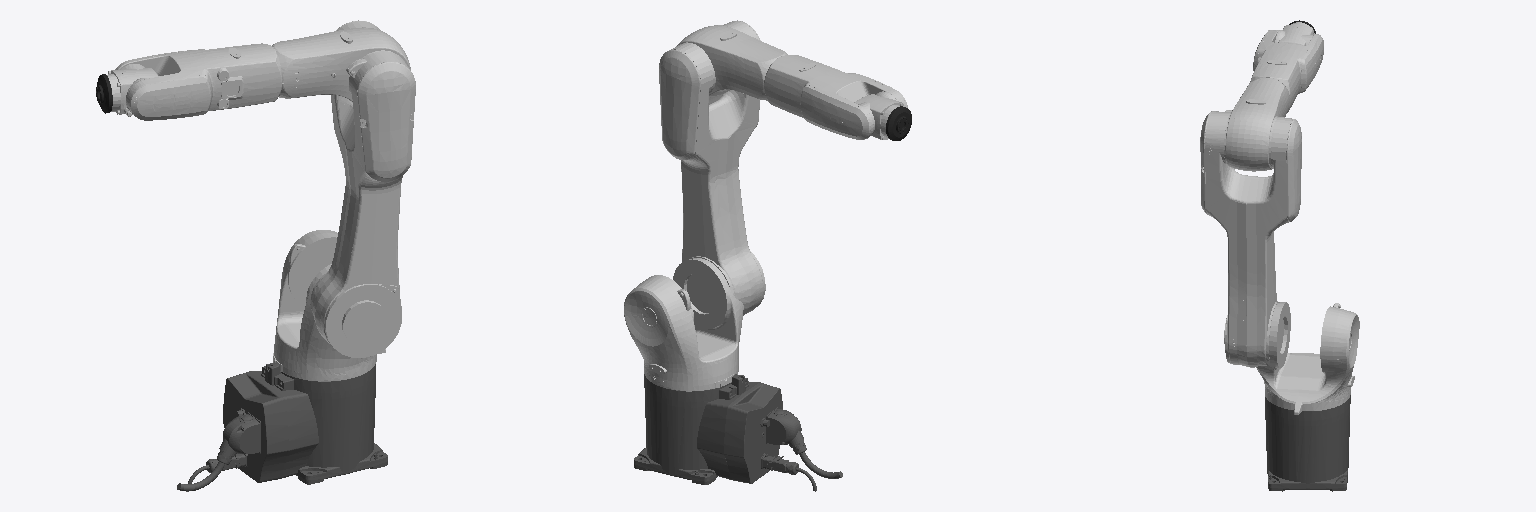
URDF robot description (kr_10_r1100-2):
<?xml version="1.0" encoding="utf-8"?>
<!-- This URDF was automatically created by SolidWorks to URDF Exporter! Originally created by [author] ([email redacted]) 
     Commit Version: 1.6.0-1-g15f4949  Build Version: 1.6.7594.29634
     For more information, please see http://wiki.ros.org/sw_urdf_exporter -->
<robot
  name="kr_10_r1100-2">
  <link
    name="base_arm">
    <inertial>
      <origin
        xyz="-0.046785 -0.00098204 0.10974"
        rpy="0 0 0" />
      <mass
        value="91.64" />
      <inertia
        ixx="0.60334"
        ixy="-0.00040839"
        ixz="-0.0038944"
        iyy="0.68726"
        iyz="0.00020595"
        izz="0.5917" />
    </inertial>
    <visual>
      <origin
        xyz="0 0 0"
        rpy="0 0 0" />
      <geometry>
        <mesh
          filename="package://kr_10_r1100-2/meshes/base_arm.STL" />
      </geometry>
      <material
        name="">
        <color
          rgba="0.4 0.4 0.4 1" />
      </material>
    </visual>
    <collision>
      <origin
        xyz="0 0 0"
        rpy="0 0 0" />
      <geometry>
        <mesh
          filename="package://kr_10_r1100-2/meshes/base_arm.STL" />
      </geometry>
    </collision>
  </link>
  <link
    name="link_1">
    <inertial>
      <origin
        xyz="0.0080148 -0.0054241 0.11231"
        rpy="0 0 0" />
      <mass
        value="45.516" />
      <inertia
        ixx="0.52733"
        ixy="-0.034725"
        ixz="-0.03364"
        iyy="0.35598"
        iyz="0.020992"
        izz="0.40114" />
    </inertial>
    <visual>
      <origin
        xyz="0 0 0"
        rpy="0 0 0" />
      <geometry>
        <mesh
          filename="package://kr_10_r1100-2/meshes/link_1.STL" />
      </geometry>
      <material
        name="">
        <color
          rgba="0.8 0.8 0.8 1" />
      </material>
    </visual>
    <collision>
      <origin
        xyz="0 0 0"
        rpy="0 0 0" />
      <geometry>
        <mesh
          filename="package://kr_10_r1100-2/meshes/link_1.STL" />
      </geometry>
    </collision>
  </link>
  <joint
    name="joint_a1"
    type="revolute">
    <origin
      xyz="-0.00061909 0 0.2157"
      rpy="0 0 0" />
    <parent
      link="base_arm" />
    <child
      link="link_1" />
    <axis
      xyz="0 0 -1" />
    <limit
      lower="0"
      upper="0"
      effort="0"
      velocity="0" />
  </joint>
  <link
    name="link_2">
    <inertial>
      <origin
        xyz="0.26612 -0.02538 0.068776"
        rpy="0 0 0" />
      <mass
        value="84.384" />
      <inertia
        ixx="0.443"
        ixy="0.22357"
        ixz="-0.027695"
        iyy="3.8805"
        iyz="0.00077028"
        izz="3.6823" />
    </inertial>
    <visual>
      <origin
        xyz="0 0 0"
        rpy="0 0 0" />
      <geometry>
        <mesh
          filename="package://kr_10_r1100-2/meshes/link_2.STL" />
      </geometry>
      <material
        name="">
        <color
          rgba="0.8 0.8 0.8 1" />
      </material>
    </visual>
    <collision>
      <origin
        xyz="0 0 0"
        rpy="0 0 0" />
      <geometry>
        <mesh
          filename="package://kr_10_r1100-2/meshes/link_2.STL" />
      </geometry>
    </collision>
  </link>
  <joint
    name="joint_a2"
    type="revolute">
    <origin
      xyz="0.011395 -0.071615 0.1803"
      rpy="1.3545 -1.5708 0" />
    <parent
      link="link_1" />
    <child
      link="link_2" />
    <axis
      xyz="0 0 1" />
    <limit
      lower="0"
      upper="0"
      effort="0"
      velocity="0" />
  </joint>
  <link
    name="link_3">
    <inertial>
      <origin
        xyz="0.011131 0.052479 0.072757"
        rpy="0 0 0" />
      <mass
        value="31.013" />
      <inertia
        ixx="0.21568"
        ixy="-0.02434"
        ixz="-0.00045379"
        iyy="0.080696"
        iyz="-0.0033315"
        izz="0.22357" />
    </inertial>
    <visual>
      <origin
        xyz="0 0 0"
        rpy="0 0 0" />
      <geometry>
        <mesh
          filename="package://kr_10_r1100-2/meshes/link_3.STL" />
      </geometry>
      <material
        name="">
        <color
          rgba="0.8 0.8 0.8 1" />
      </material>
    </visual>
    <collision>
      <origin
        xyz="0 0 0"
        rpy="0 0 0" />
      <geometry>
        <mesh
          filename="package://kr_10_r1100-2/meshes/link_3.STL" />
      </geometry>
    </collision>
  </link>
  <joint
    name="joint_a3"
    type="revolute">
    <origin
      xyz="0.55896 -0.034133 -0.008"
      rpy="0 0 0" />
    <parent
      link="link_2" />
    <child
      link="link_3" />
    <axis
      xyz="0 0 1" />
    <limit
      lower="0"
      upper="0"
      effort="0"
      velocity="0" />
  </joint>
  <link
    name="link_4">
    <inertial>
      <origin
        xyz="-5.4213E-05 -0.0016695 0.15386"
        rpy="0 0 0" />
      <mass
        value="27.356" />
      <inertia
        ixx="0.24636"
        ixy="6.8921E-05"
        ixz="0.00023212"
        iyy="0.22365"
        iyz="0.0075463"
        izz="0.066562" />
    </inertial>
    <visual>
      <origin
        xyz="0 0 0"
        rpy="0 0 0" />
      <geometry>
        <mesh
          filename="package://kr_10_r1100-2/meshes/link_4.STL" />
      </geometry>
      <material
        name="">
        <color
          rgba="0.8 0.8 0.8 1" />
      </material>
    </visual>
    <collision>
      <origin
        xyz="0 0 0"
        rpy="0 0 0" />
      <geometry>
        <mesh
          filename="package://kr_10_r1100-2/meshes/link_4.STL" />
      </geometry>
    </collision>
  </link>
  <joint
    name="joint_a4"
    type="revolute">
    <origin
      xyz="0.025 0.205 0.0755"
      rpy="-1.5708 0 0" />
    <parent
      link="link_3" />
    <child
      link="link_4" />
    <axis
      xyz="0 0 1" />
    <limit
      lower="0"
      upper="0"
      effort="0"
      velocity="0" />
  </joint>
  <link
    name="link_5">
    <inertial>
      <origin
        xyz="0.00037113 -0.053077 0.011452"
        rpy="0 0 0" />
      <mass
        value="5.9558" />
      <inertia
        ixx="0.0097612"
        ixy="5.2407E-06"
        ixz="-4.0674E-05"
        iyy="0.0085564"
        iyz="7.7038E-05"
        izz="0.0066757" />
    </inertial>
    <visual>
      <origin
        xyz="0 0 0"
        rpy="0 0 0" />
      <geometry>
        <mesh
          filename="package://kr_10_r1100-2/meshes/link_5.STL" />
      </geometry>
      <material
        name="">
        <color
          rgba="0.8 0.8 0.8 1" />
      </material>
    </visual>
    <collision>
      <origin
        xyz="0 0 0"
        rpy="0 0 0" />
      <geometry>
        <mesh
          filename="package://kr_10_r1100-2/meshes/link_5.STL" />
      </geometry>
    </collision>
  </link>
  <joint
    name="joint_a5"
    type="revolute">
    <origin
      xyz="-0.0002289 0.0545 0.31"
      rpy="0 0 0" />
    <parent
      link="link_4" />
    <child
      link="link_5" />
    <axis
      xyz="0.0042 -0.99999 0" />
    <limit
      lower="0"
      upper="0"
      effort="0"
      velocity="0" />
  </joint>
  <link
    name="link_6">
    <inertial>
      <origin
        xyz="0.00014555 -0.0022055 -0.010033"
        rpy="0 0 0" />
      <mass
        value="0.59297" />
      <inertia
        ixx="0.00022595"
        ixy="-5.5738E-07"
        ixz="-2.5386E-06"
        iyy="0.00023504"
        iyz="4.1459E-05"
        izz="0.00041455" />
    </inertial>
    <visual>
      <origin
        xyz="0 0 0"
        rpy="0 0 0" />
      <geometry>
        <mesh
          filename="package://kr_10_r1100-2/meshes/link_6.STL" />
      </geometry>
      <material
        name="">
        <color
          rgba="0.2 0.2 0.2 1" />
      </material>
    </visual>
    <collision>
      <origin
        xyz="0 0 0"
        rpy="0 0 0" />
      <geometry>
        <mesh
          filename="package://kr_10_r1100-2/meshes/link_6.STL" />
      </geometry>
    </collision>
  </link>
  <joint
    name="joint_a6"
    type="revolute">
    <origin
      xyz="0.0011204 -0.054496 0.066994"
      rpy="-2.9253 0 0" />
    <parent
      link="link_5" />
    <child
      link="link_6" />
    <axis
      xyz="0.013305 -0.21466 -0.9766" />
    <limit
      lower="0"
      upper="0"
      effort="0"
      velocity="0" />
  </joint>
</robot>

--- What the picture shows (computed from the rendered views, not written in the file) ---
The picture shows the robot from 3 angles, left to right: view 1: azimuth 30°, elevation 25°; view 2: azimuth 150°, elevation 25°; view 3: azimuth 270°, elevation 25°; orthographic projection.
Robot: kr_10_r1100-2 — 7 links, 6 joints (6 revolute); root link base_arm; default pose: every joint at zero.
Links seen in each view (by area): view 1: link_2, base_arm, link_4, link_1, link_3, link_5; view 2: link_2, base_arm, link_1, link_4, link_3, link_5, link_6; view 3: link_2, link_1, base_arm, link_3, link_4, link_5.
Link boxes in pixels (x1=…): link_2: x1=310, y1=20, x2=415, y2=357; base_arm: x1=177, y1=363, x2=387, y2=491; link_4: x1=115, y1=43, x2=281, y2=120; link_1: x1=273, y1=230, x2=385, y2=381; link_3: x1=272, y1=27, x2=410, y2=102; link_5: x1=107, y1=64, x2=158, y2=114; link_2: x1=659, y1=20, x2=765, y2=315; base_arm: x1=634, y1=374, x2=842, y2=491; link_1: x1=624, y1=258, x2=743, y2=391; link_4: x1=764, y1=55, x2=907, y2=139; link_3: x1=677, y1=25, x2=787, y2=100; link_5: x1=854, y1=91, x2=903, y2=139; link_6: x1=886, y1=106, x2=911, y2=140; link_2: x1=1200, y1=110, x2=1301, y2=367; link_1: x1=1256, y1=302, x2=1359, y2=414; base_arm: x1=1265, y1=395, x2=1350, y2=491; link_3: x1=1224, y1=78, x2=1289, y2=171; link_4: x1=1250, y1=30, x2=1323, y2=112; link_5: x1=1275, y1=22, x2=1314, y2=45.
Bounding box of the posed robot: 0.6971 × 0.408 × 1.04 m (x, y, z).
Meshes: 7 distinct files referenced, 7 mesh visuals loaded (7 binary STL).